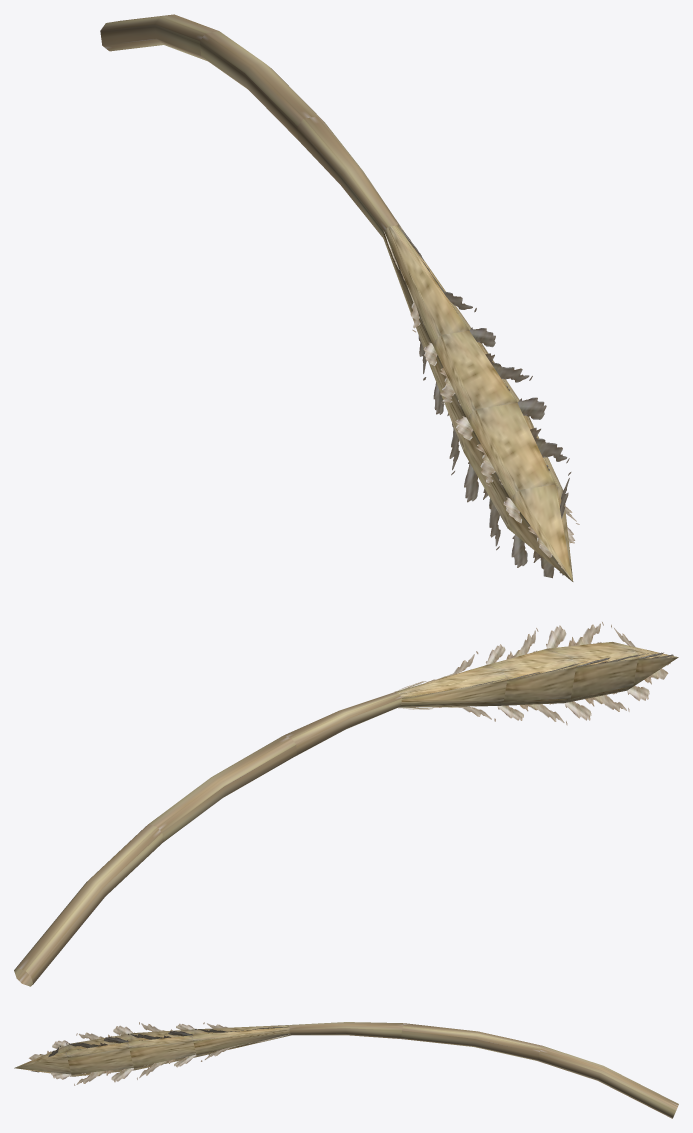
The model's file is DF_WheatStraw.fbx.
3 views of the same model, one above another, from view 1: azimuth 30°, elevation 25°; view 2: azimuth 150°, elevation 25°; view 3: azimuth 270°, elevation 25° (orthographic). The views are drawn at different scales.
Visible parts, largest first — view 1: Wheat Straw; view 2: Wheat Straw; view 3: Wheat Straw.
Part boxes in pixels (box(x1,y1,x2,y2)): Wheat Straw: box(100, 14, 579, 581); Wheat Straw: box(14, 622, 678, 986); Wheat Straw: box(14, 1022, 678, 1118).
Size of the model in its own units: 0.1011 by 0.0689 by 0.4633.
